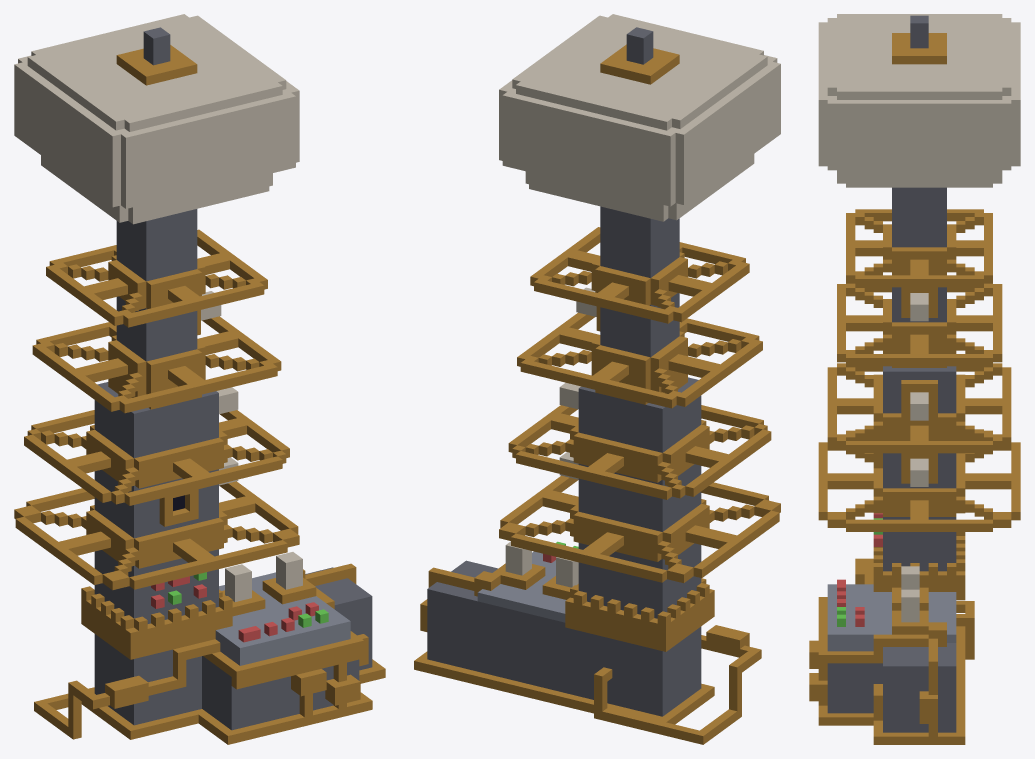
Rendered from GGJ tesla coil.obj.
3 views of the same model, side by side, from view 1: azimuth 30°, elevation 25°; view 2: azimuth 150°, elevation 25°; view 3: azimuth 270°, elevation 25° (orthographic). The views are drawn at different scales.
Bounding box in the file's own units: 3.7 × 7.6 × 2.3.
1 material, 1 textured.
